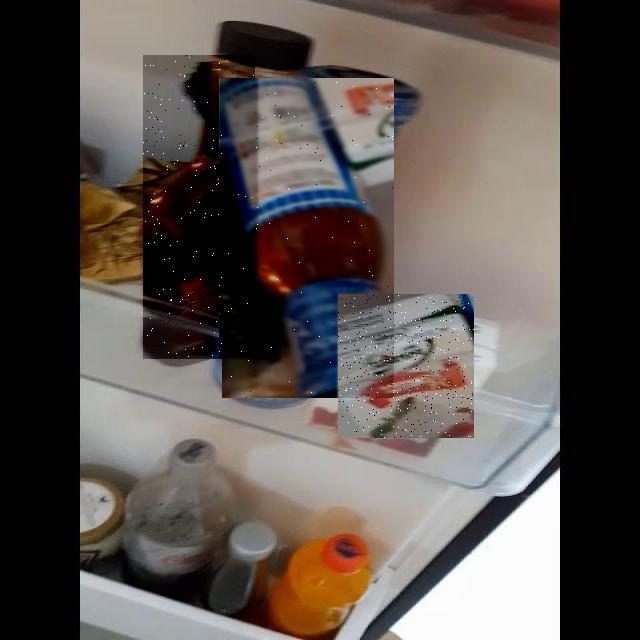Cheese: (338, 294, 474, 438)
Sauce: (223, 78, 395, 398), (144, 55, 258, 359)
